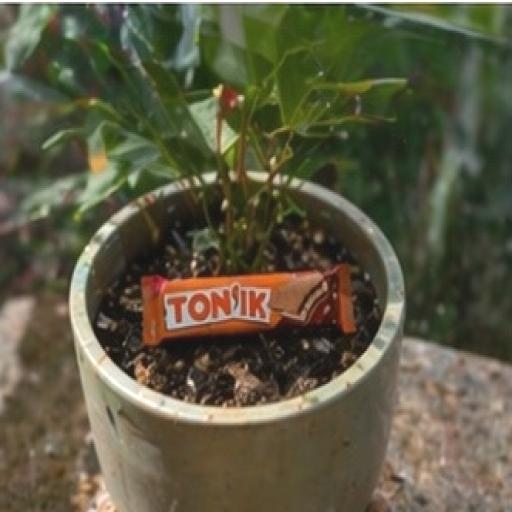tonik: (66, 122, 424, 448)
